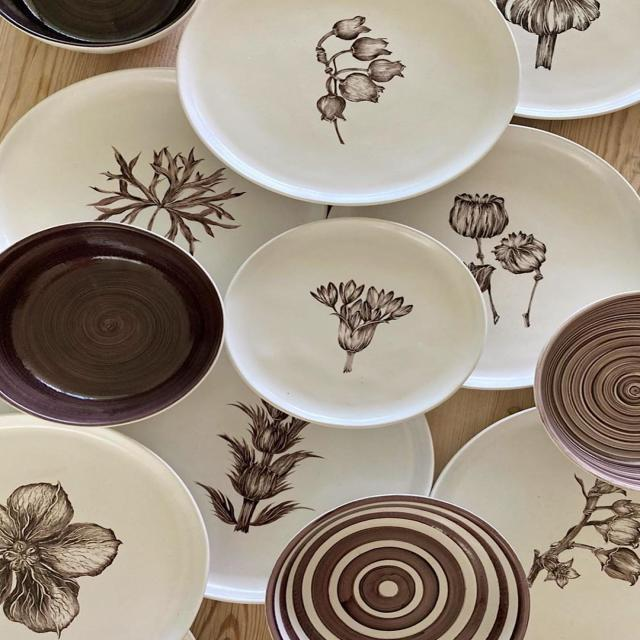ceramic plate: (176, 12, 558, 180), (228, 224, 488, 426), (0, 409, 208, 640)
